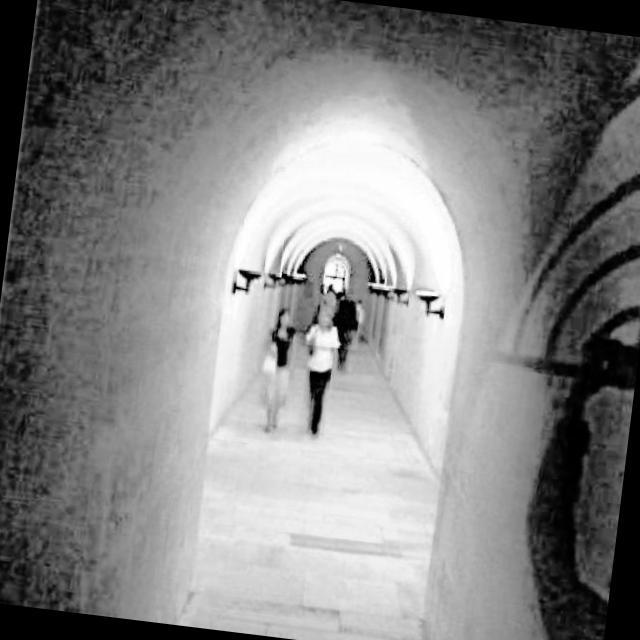Person: (294, 303, 348, 438), (251, 299, 300, 436)
